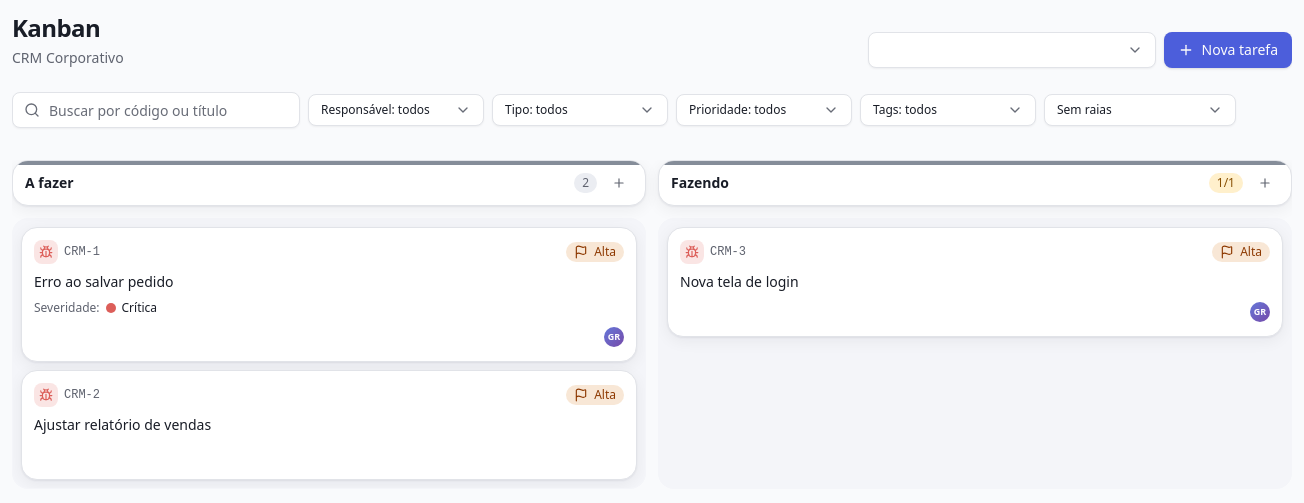
Test: KanbanPage › busca e filtro "minhas tarefas" filtram no navegador
Expected: the text "Erro ao salvar pedido" is shown, [34,272,174,291]
Type "relatório" into the search field with placeholder "Buscar por código ou título" at x=156, y=110, box [12,92,300,128]
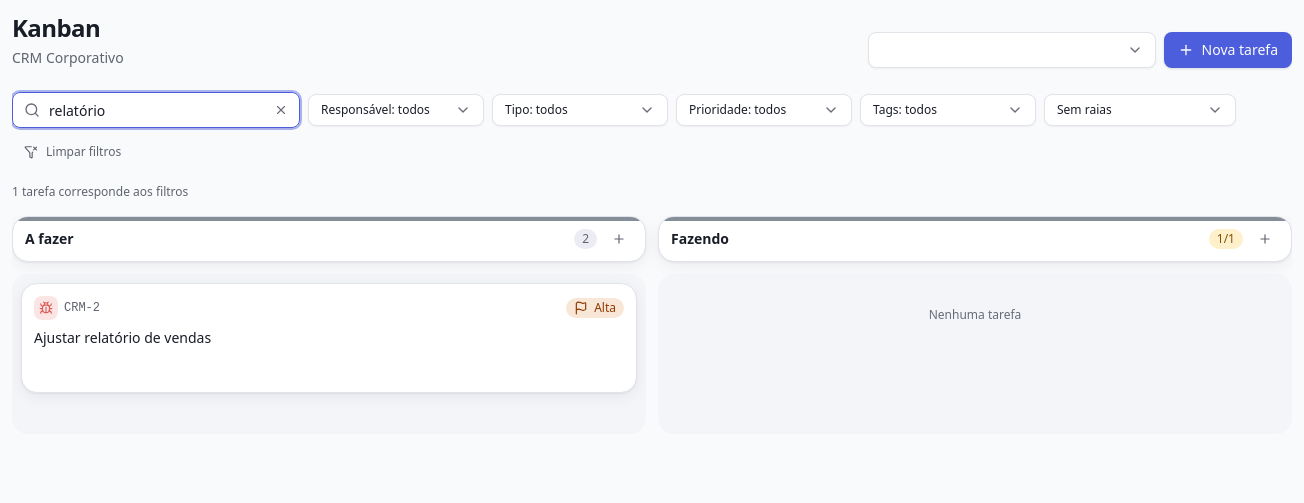
Expected: the text "Ajustar relatório de vendas" is shown, [34,328,211,347]
Now the button "Erro ao salvar pedido" is gone
Now the text "1 tarefa corresponde aos filtros" is shown, box [12,184,188,200]
Click the button "Limpar filtros" at x=73, y=152, box [12,136,133,168]
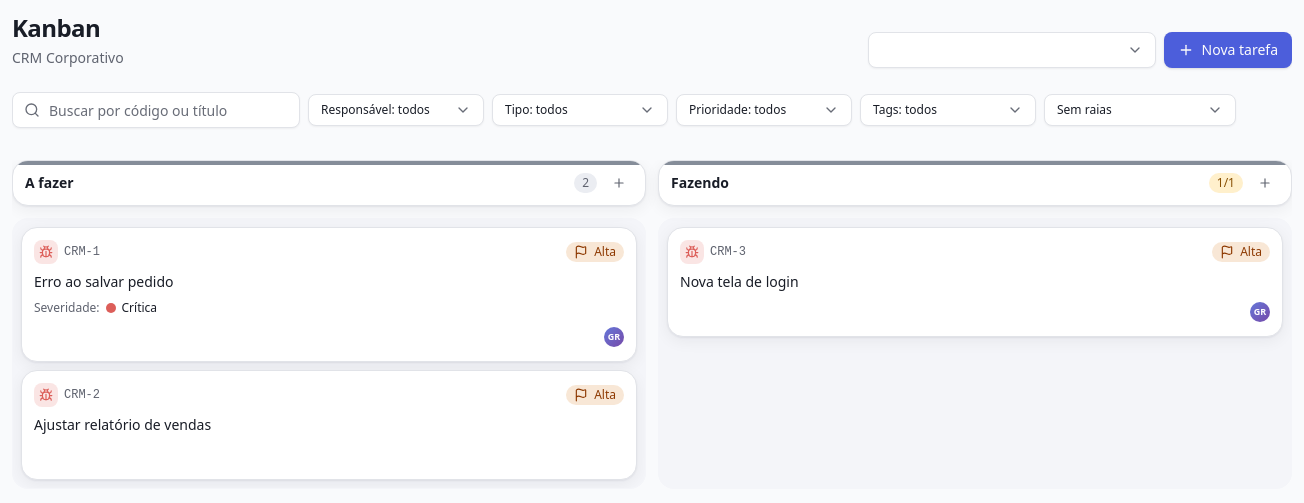
Click the dropdown labelled "Responsável" at x=396, y=110, box [308,94,484,126]
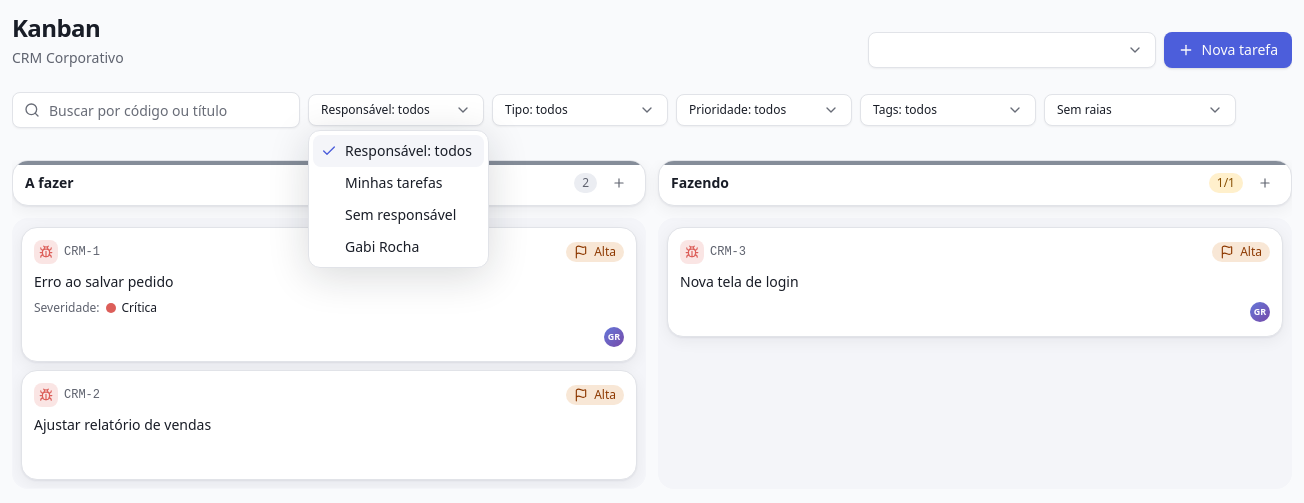
Click the option "Sem responsável" at x=401, y=214, box [345,205,456,224]
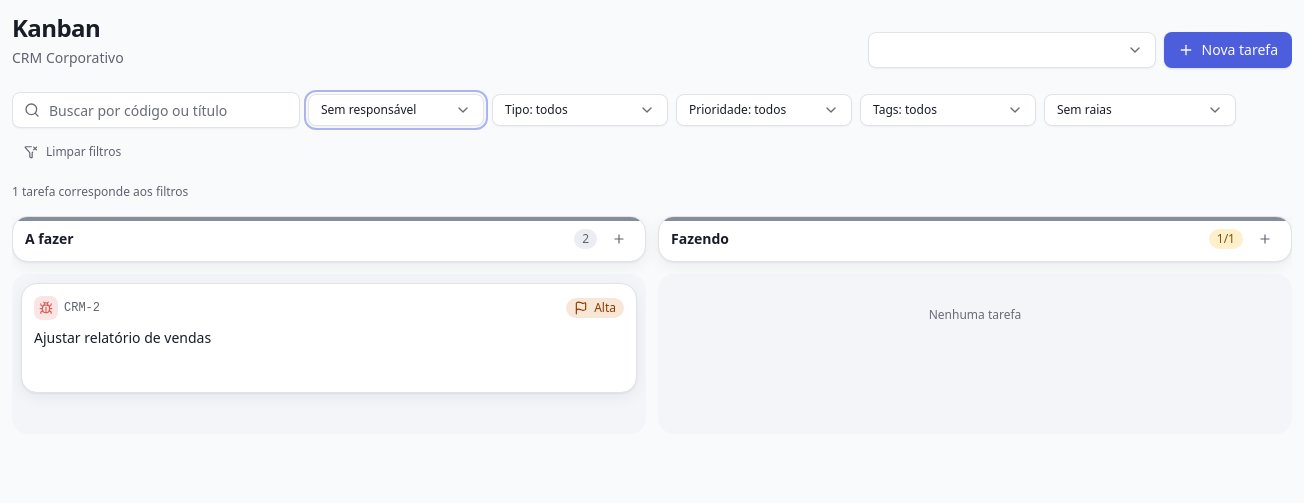
Expected: the text "Ajustar relatório de vendas" is shown, [34,328,211,347]
Now the button "Nova tela de login" is gone
